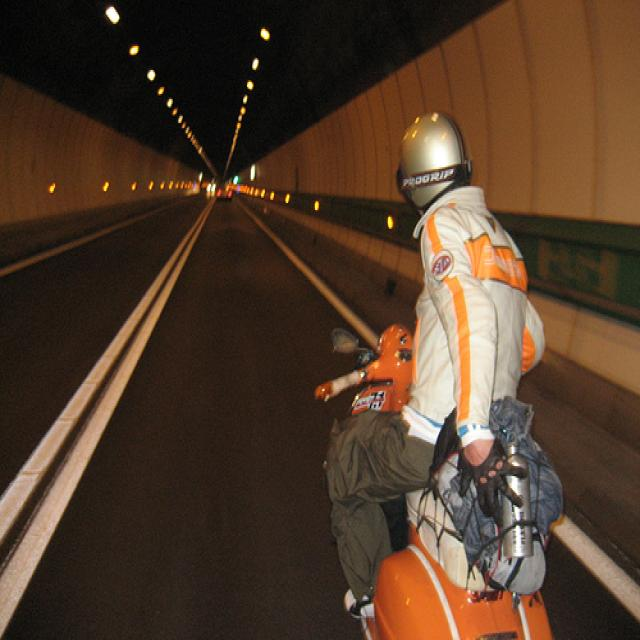motorbike: (316, 315, 570, 639)
person: (320, 107, 549, 617)
